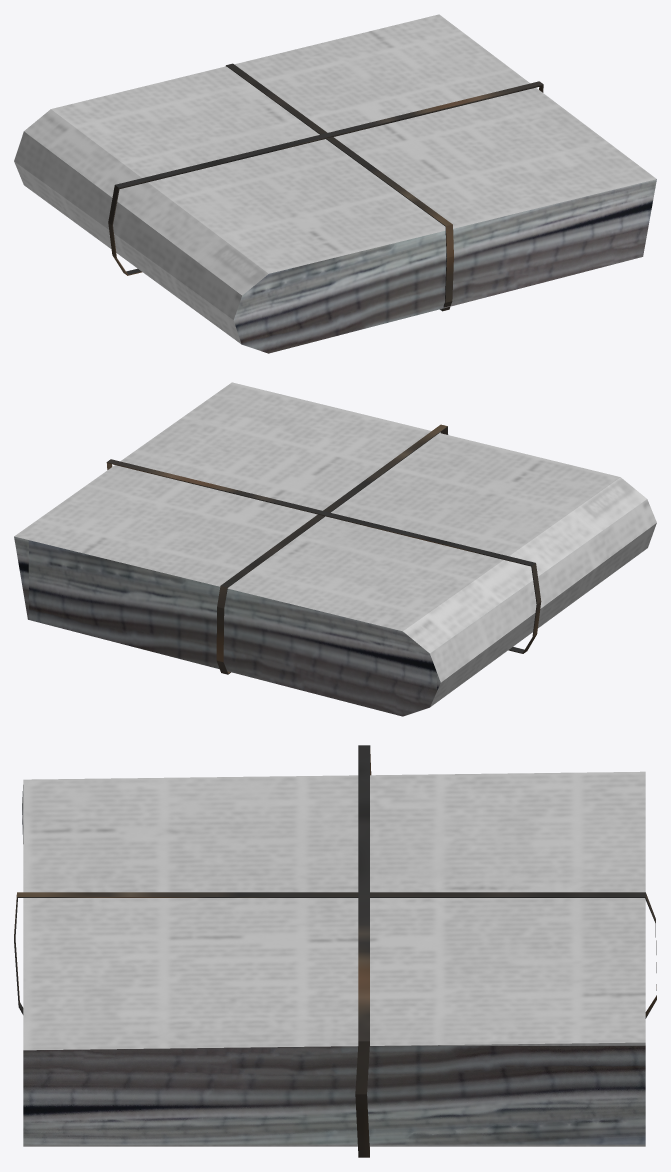
The model's file is Zeitung_Stapel.fbx.
3 renders of one model, top to bottom at view 1: azimuth 30°, elevation 25°; view 2: azimuth 150°, elevation 25°; view 3: azimuth 270°, elevation 25°, orthographic. The views are drawn at different scales.
Parts seen in each view (by area): view 1: Zeitung_Stapel; view 2: Zeitung_Stapel; view 3: Zeitung_Stapel.
Boxes of the visible parts, box(x1,y1,x2,y2) form: Zeitung_Stapel: box(14, 14, 656, 353); Zeitung_Stapel: box(14, 382, 656, 716); Zeitung_Stapel: box(14, 745, 656, 1157).
Size of the model in its own units: 43.81 by 8.77 by 39.66.
